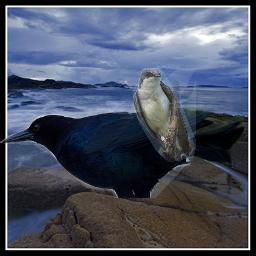Crow: (0, 107, 244, 198)
Swallow: (133, 68, 196, 162)
